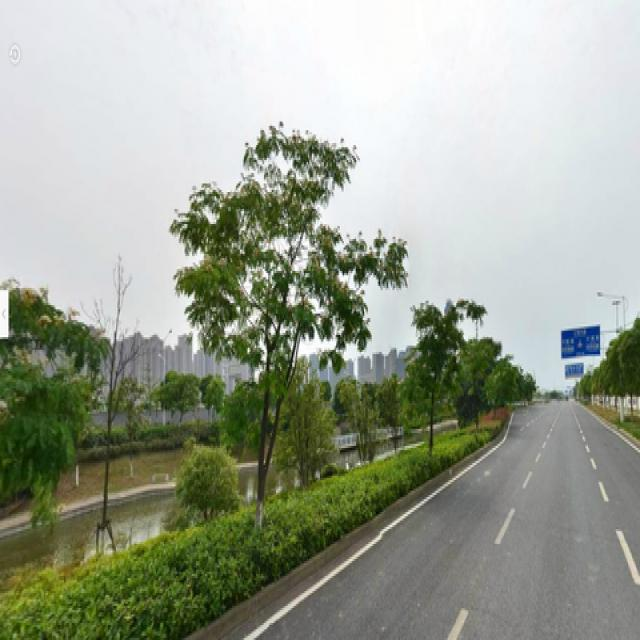albi: (190, 121, 398, 508)
